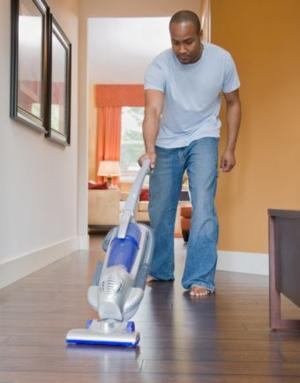person: (138, 10, 242, 300)
